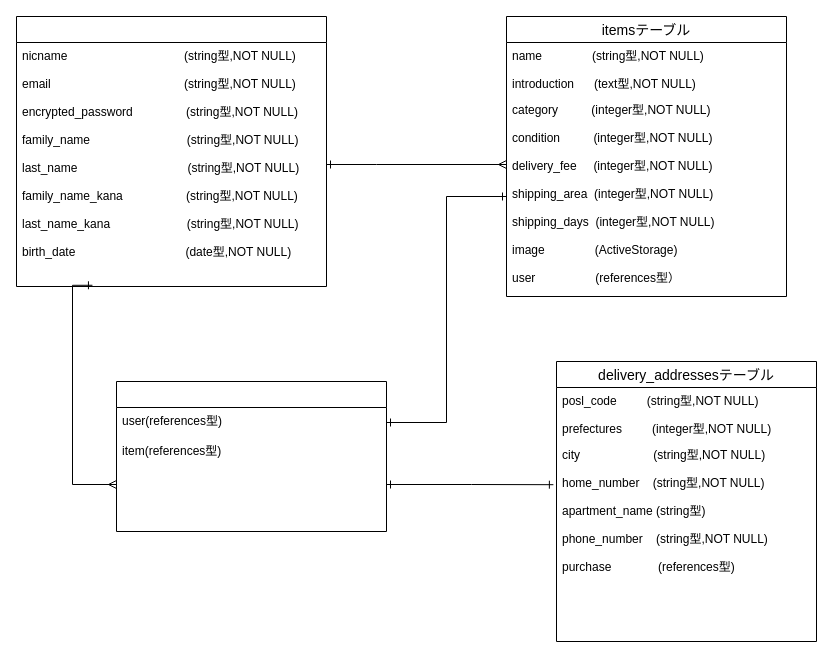
The diagram is 833 pixels wide and 658 high, and some of its shapes have lost their labels. Here are the shapes that lost their labels. From the top down, the box of each, then its label:
(16, 16, 326, 286): usersテーブル
(116, 380, 386, 532): purchasesテーブル
